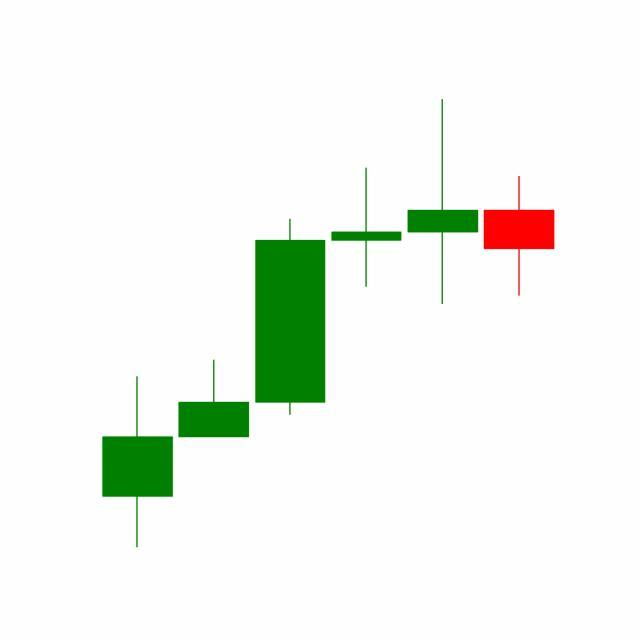Spinning Top: (404, 98, 482, 308)
